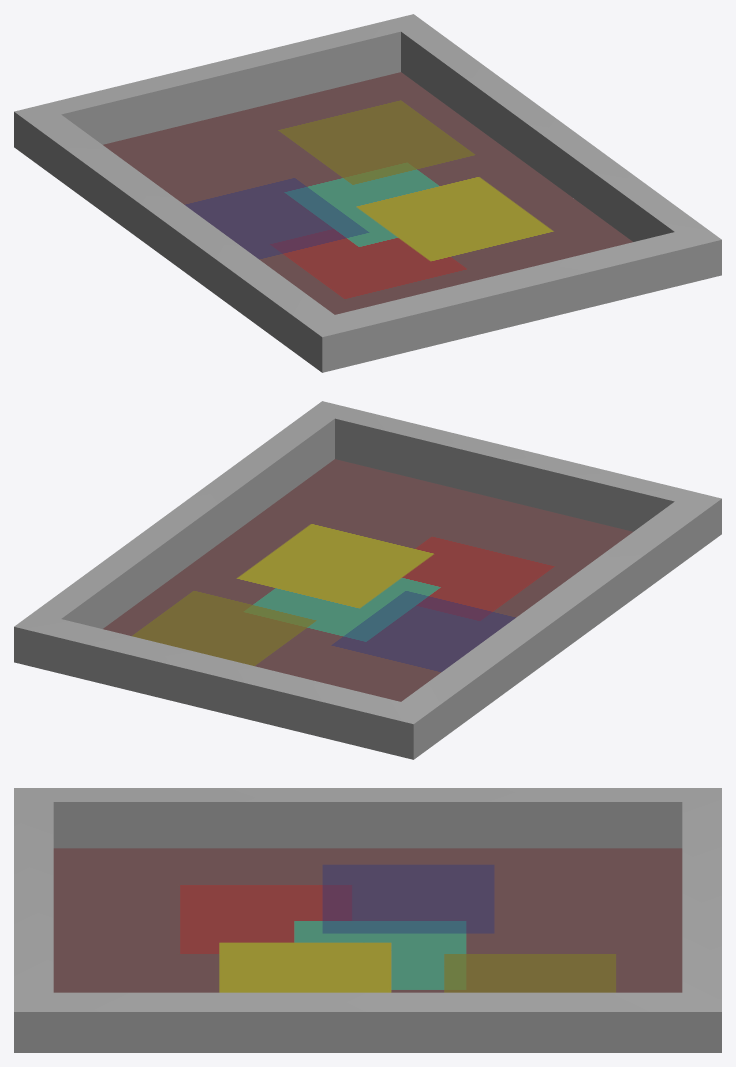
File: Painting.fbx
3 views of the same model, one above another, from view 1: azimuth 30°, elevation 25°; view 2: azimuth 150°, elevation 25°; view 3: azimuth 270°, elevation 25° (orthographic). The views are drawn at different scales.
Visible parts, largest first — view 1: pPipe1, pPlane5; view 2: pPipe1, pPlane5; view 3: pPipe1, pPlane5.
Part boxes in pixels (left/top/right/bottom): pPipe1: left=14, top=14, right=721, bottom=372; pPlane5: left=103, top=72, right=632, bottom=314; pPipe1: left=14, top=401, right=721, bottom=759; pPlane5: left=103, top=459, right=632, bottom=701; pPipe1: left=14, top=788, right=721, bottom=1052; pPlane5: left=53, top=848, right=682, bottom=992.
Size of the model in its own units: 188 by 18.12 by 250.
